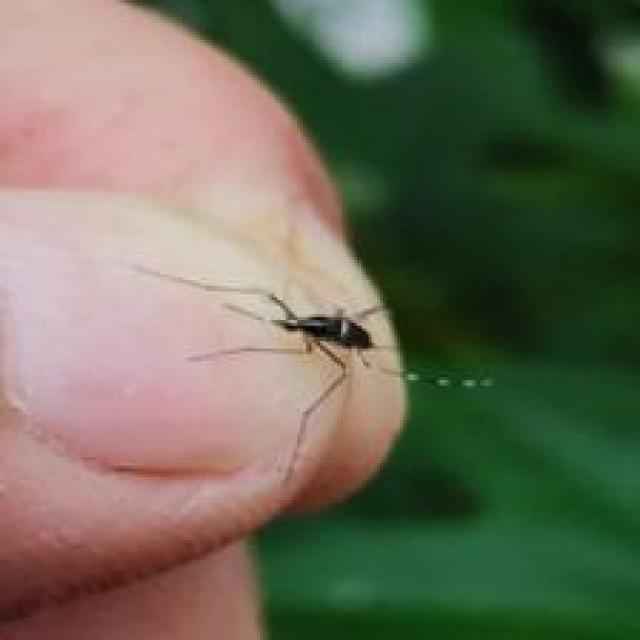Aedes albopictus: (133, 262, 496, 484)
